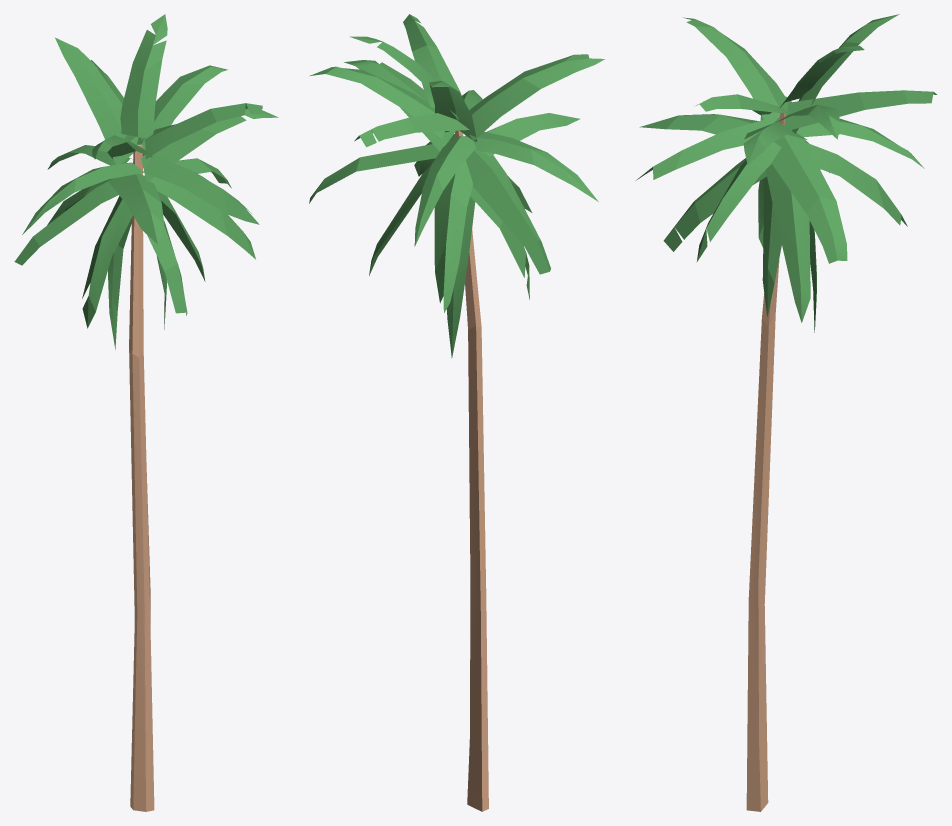
Rendered from tree_palm_coco_F_LOD1.fbx.
3 views of the same model, side by side, from view 1: azimuth 30°, elevation 25°; view 2: azimuth 150°, elevation 25°; view 3: azimuth 270°, elevation 25° (orthographic). The views are drawn at different scales.
Visible parts, largest first — view 1: trunk_coco_F, leaf_cocotree_F_3, leaf_cocotree_F_2, leaf_cocotree_F_20, leaf_cocotree_F_13, leaf_cocotree_F_17, leaf_cocotree_F_4, leaf_cocotree_F_14, leaf_cocotree_F_8, leaf_cocotree_F_15, leaf_cocotree_F_9, leaf_cocotree_F_10 (+6 smaller); view 2: trunk_coco_F, leaf_cocotree_F_18, leaf_cocotree_F_15, leaf_cocotree_F_7, leaf_cocotree_F_11, leaf_cocotree_F_10, leaf_cocotree_F_8, leaf_cocotree_F_4, leaf_cocotree_F_12, leaf_cocotree_F_6, leaf_cocotree_F_21, leaf_cocotree_F_9 (+5 smaller); view 3: trunk_coco_F, leaf_cocotree_F_12, leaf_cocotree_F_16, leaf_cocotree_F_7, leaf_cocotree_F_6, leaf_cocotree_F_14, leaf_cocotree_F_13, leaf_cocotree_F_18, leaf_cocotree_F_19, leaf_cocotree_F_22, leaf_cocotree_F_17, leaf_cocotree_F_11 (+5 smaller).
Boxes of the visible parts, bbox=[...] form: trunk_coco_F: bbox=[129, 144, 154, 811]; leaf_cocotree_F_3: bbox=[120, 14, 167, 138]; leaf_cocotree_F_2: bbox=[55, 37, 145, 164]; leaf_cocotree_F_20: bbox=[82, 196, 132, 328]; leaf_cocotree_F_13: bbox=[143, 155, 259, 224]; leaf_cocotree_F_17: bbox=[108, 173, 164, 244]; leaf_cocotree_F_4: bbox=[145, 103, 262, 159]; leaf_cocotree_F_14: bbox=[149, 177, 255, 259]; leaf_cocotree_F_8: bbox=[137, 65, 227, 146]; leaf_cocotree_F_15: bbox=[14, 178, 118, 265]; leaf_cocotree_F_9: bbox=[141, 108, 278, 182]; leaf_cocotree_F_10: bbox=[22, 162, 143, 234]; trunk_coco_F: bbox=[455, 130, 488, 811]; leaf_cocotree_F_18: bbox=[434, 160, 473, 312]; leaf_cocotree_F_15: bbox=[466, 150, 550, 274]; leaf_cocotree_F_7: bbox=[469, 54, 604, 140]; leaf_cocotree_F_11: bbox=[414, 135, 476, 246]; leaf_cocotree_F_10: bbox=[465, 132, 598, 201]; leaf_cocotree_F_8: bbox=[309, 66, 444, 138]; leaf_cocotree_F_4: bbox=[403, 14, 461, 107]; leaf_cocotree_F_12: bbox=[309, 140, 451, 203]; leaf_cocotree_F_6: bbox=[354, 113, 469, 147]; leaf_cocotree_F_21: bbox=[446, 196, 475, 358]; leaf_cocotree_F_9: bbox=[344, 60, 455, 151]; trunk_coco_F: bbox=[746, 110, 786, 811]; leaf_cocotree_F_12: bbox=[771, 135, 847, 263]; leaf_cocotree_F_16: bbox=[765, 164, 810, 322]; leaf_cocotree_F_7: bbox=[683, 17, 788, 125]; leaf_cocotree_F_6: bbox=[784, 90, 937, 130]; leaf_cocotree_F_14: bbox=[696, 142, 781, 262]; leaf_cocotree_F_13: bbox=[636, 119, 767, 180]; leaf_cocotree_F_18: bbox=[806, 142, 907, 226]; leaf_cocotree_F_19: bbox=[663, 158, 766, 251]; leaf_cocotree_F_22: bbox=[762, 176, 781, 317]; leaf_cocotree_F_17: bbox=[639, 114, 758, 134]; leaf_cocotree_F_11: bbox=[792, 118, 924, 168].
Bounding box in the file's own units: 424 × 1205 × 418.
